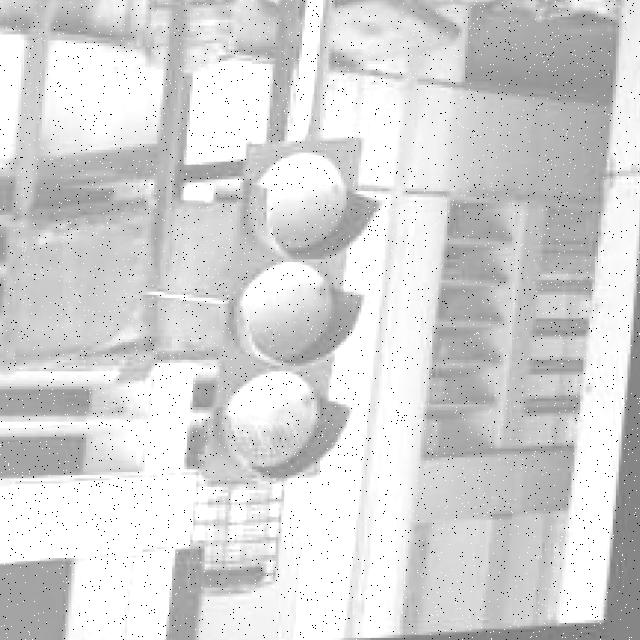Lampu Merah: (232, 130, 360, 474)
